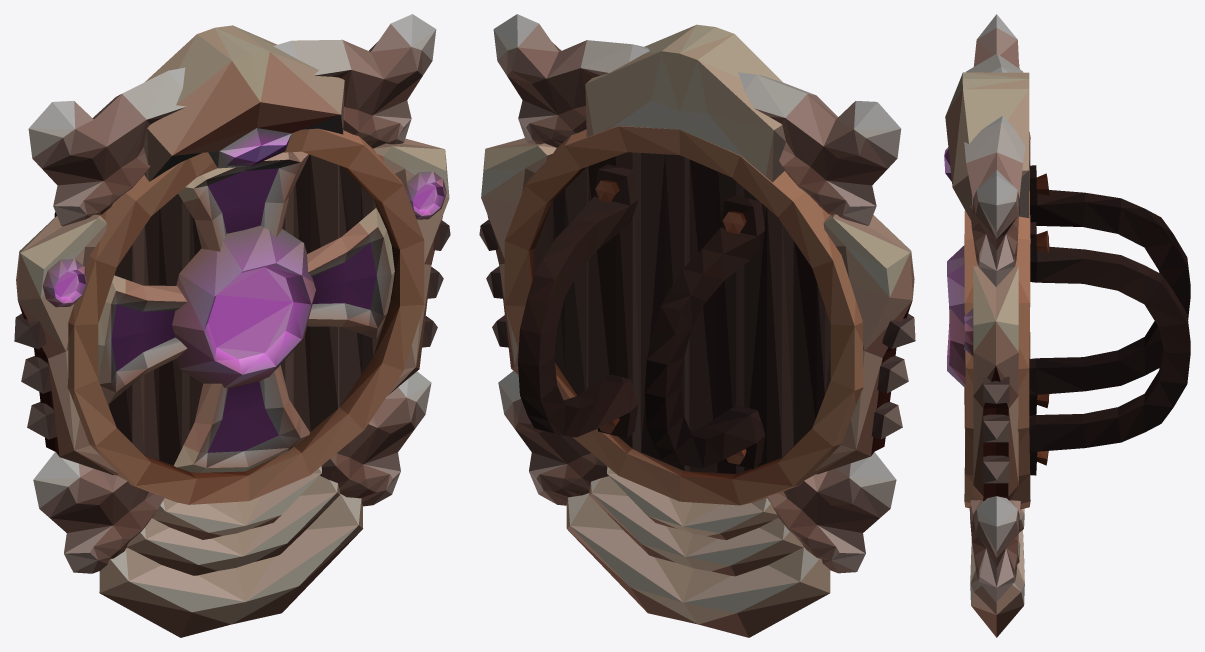
Rendered from weapon_shield_bronze_5.fbx.
The picture shows the model from 3 angles, left to right: view 1: azimuth 30°, elevation 25°; view 2: azimuth 150°, elevation 25°; view 3: azimuth 270°, elevation 25°; orthographic projection. The views are drawn at different scales.
Parts seen in each view (by area): view 1: weapon_shield_bronze_5; view 2: weapon_shield_bronze_5; view 3: weapon_shield_bronze_5.
Part boxes in pixels (x1,y1,x2,y2): weapon_shield_bronze_5: (14, 14, 450, 637); weapon_shield_bronze_5: (479, 14, 915, 637); weapon_shield_bronze_5: (944, 14, 1190, 637).
Size of the model in its own units: 0.8146 by 1.04 by 0.4345.
